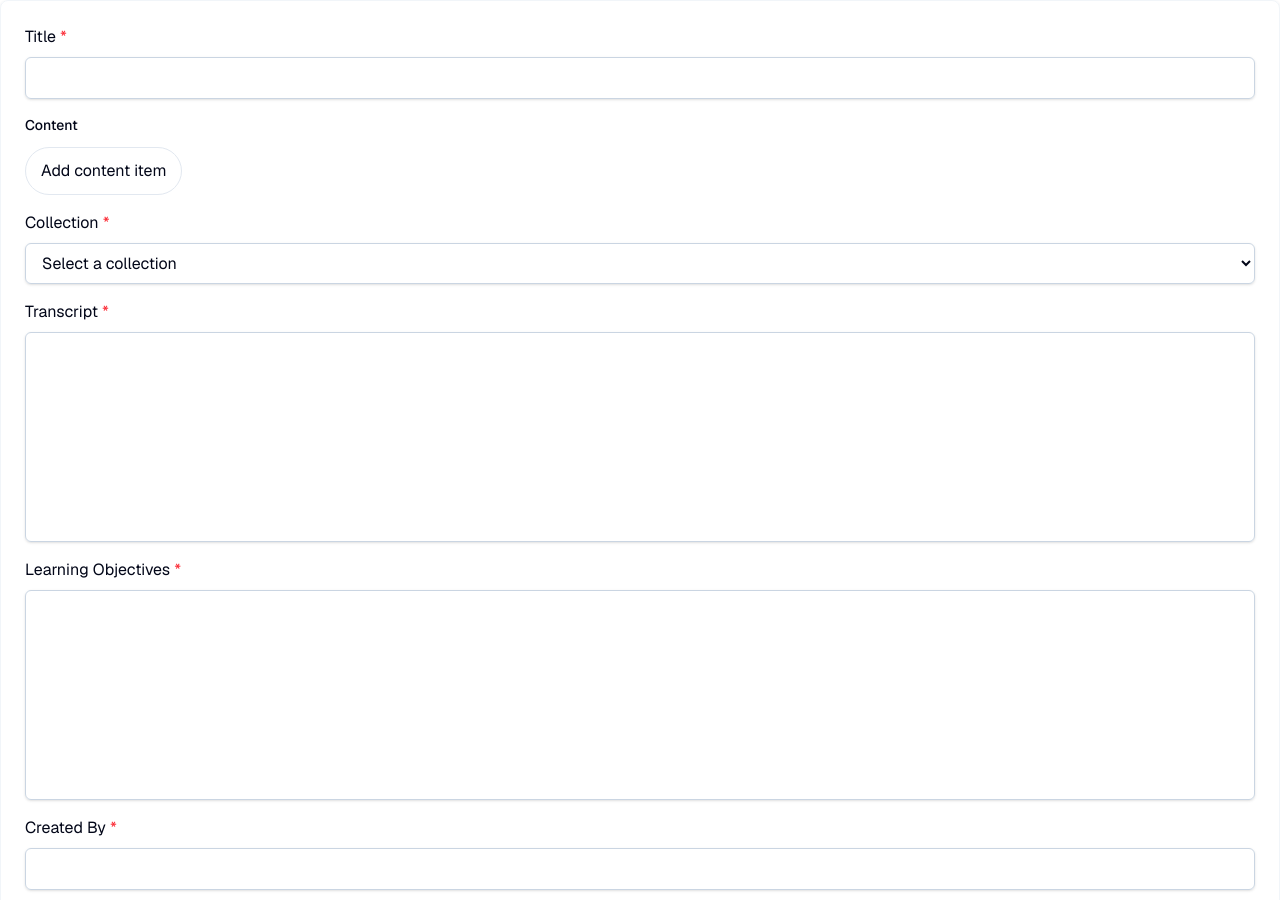
it: LearningUnitForm - content items › adds a content item when "Add content item" is clicked
This screenshot has width=1280, height=900.
What coordinates should you click on to do the following:
click the button "Add content item"
I would click on:
 (104, 171)
Its box is [25,147,182,195].
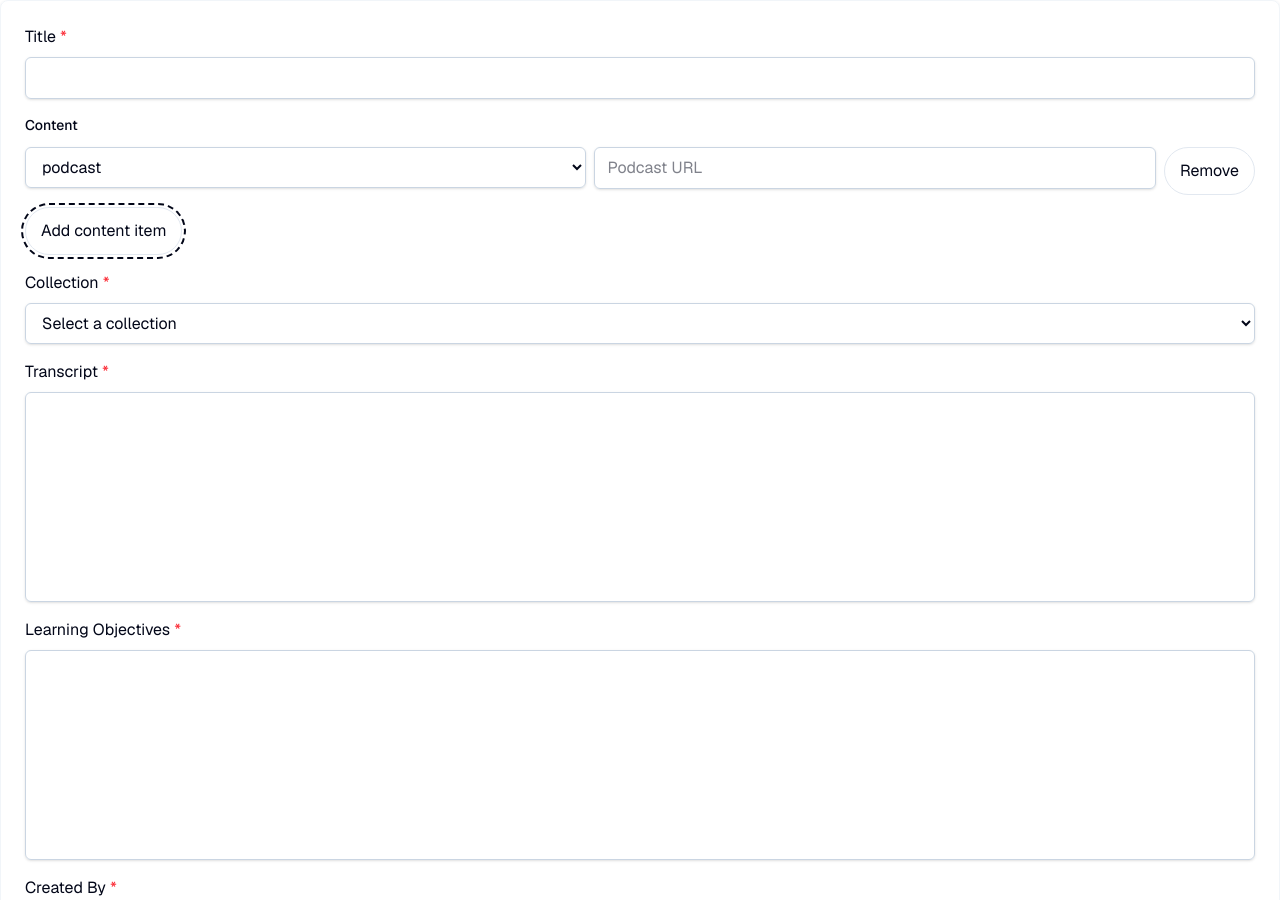
Now the 1st dropdown is shown, box [25,147,586,188]
